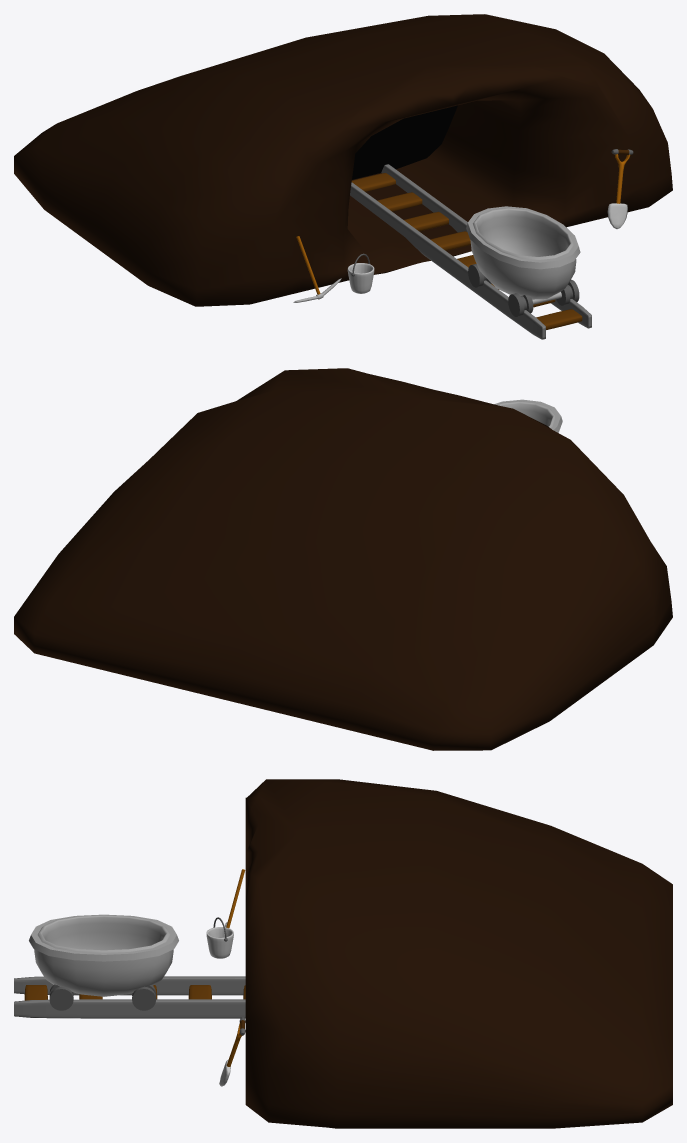
File: MineCart Part 1.fbx
The picture shows the model from 3 angles, top to bottom: view 1: azimuth 30°, elevation 25°; view 2: azimuth 150°, elevation 25°; view 3: azimuth 270°, elevation 25°; orthographic projection. The views are drawn at different scales.
Visible parts, largest first — view 1: pCube11, pCube5, pCube6; view 2: pCube11, pCube5; view 3: pCube11, pCube5.
Part boxes in pixels (bbox=[...]): pCube11: bbox=[14, 14, 672, 339]; pCube5: bbox=[466, 206, 580, 316]; pCube6: bbox=[352, 105, 457, 179]; pCube11: bbox=[14, 368, 672, 750]; pCube5: bbox=[494, 399, 562, 432]; pCube11: bbox=[14, 779, 672, 1128]; pCube5: bbox=[29, 914, 178, 1010].
Size of the model in its own units: 21.85 by 7.39 by 24.11.
